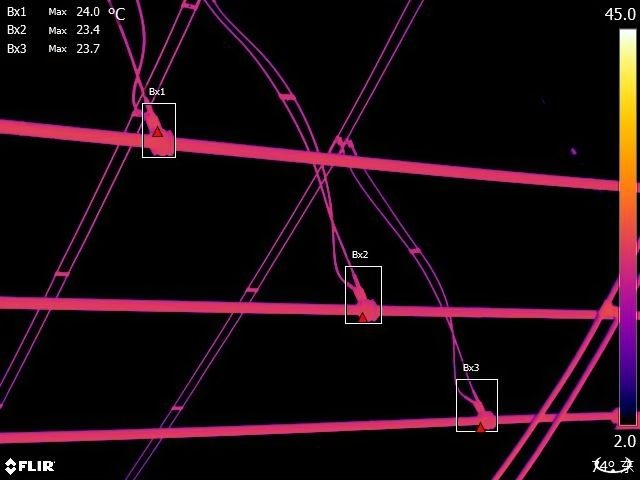clamp: (142, 113, 173, 158), (345, 281, 379, 321), (464, 393, 495, 429)
